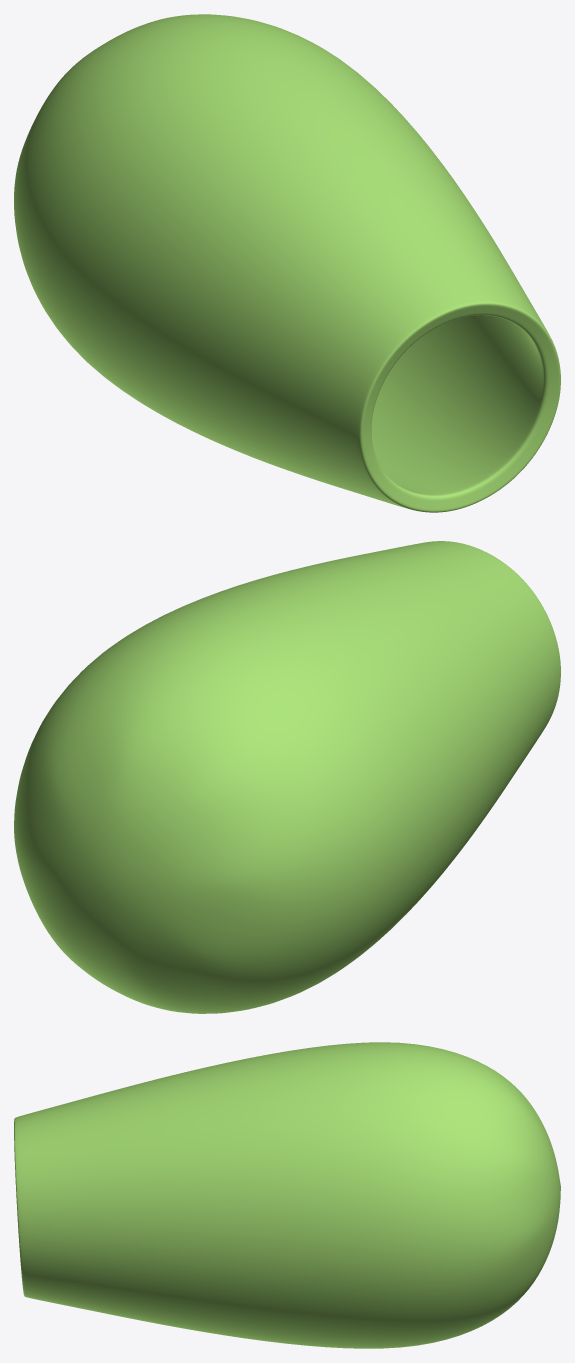
The model's file is CannonNozzle.glb.
3 renders of one model, top to bottom at view 1: azimuth 30°, elevation 25°; view 2: azimuth 150°, elevation 25°; view 3: azimuth 270°, elevation 25°, orthographic. The views are drawn at different scales.
Parts seen in each view (by area): view 1: pCylinder5; view 2: pCylinder5; view 3: pCylinder5.
Boxes of the visible parts, left/top/right/bottom form: pCylinder5: left=14, top=14, right=560, bottom=512; pCylinder5: left=14, top=541, right=560, bottom=1013; pCylinder5: left=14, top=1042, right=560, bottom=1348.
Bounding box in the file's own units: 6.31 × 6.31 × 11.26.
